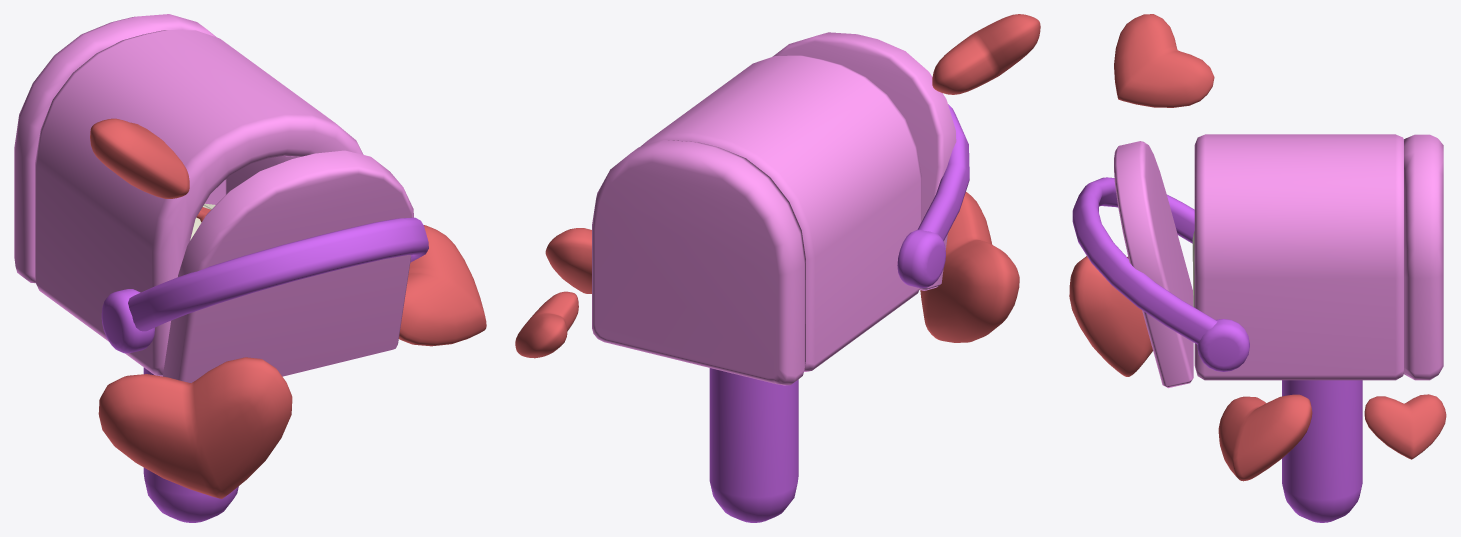
The picture shows the model from 3 angles, left to right: view 1: azimuth 30°, elevation 25°; view 2: azimuth 150°, elevation 25°; view 3: azimuth 270°, elevation 25°; orthographic projection. The views are drawn at different scales.
Visible parts, largest first — view 1: polySurface768, polySurface762, polySurface765, polySurface764, polySurface769, polySurface766, polySurface767, pCylinder9, polySurface980; view 2: polySurface769, polySurface768, pCylinder9, polySurface762, polySurface765, polySurface767, polySurface764, polySurface773, polySurface980, polySurface766; view 3: polySurface768, polySurface762, polySurface769, pCylinder9, polySurface764, polySurface767, polySurface766, polySurface765, polySurface773, polySurface979.
Boxes of the visible parts, box(x1,y1,x2,y2) form: polySurface768: box(35, 30, 363, 376); polySurface762: box(162, 150, 413, 382); polySurface765: box(98, 357, 292, 498); polySurface764: box(128, 217, 428, 331); polySurface769: box(14, 14, 225, 283); polySurface766: box(399, 225, 486, 346); polySurface767: box(90, 118, 189, 198); pCylinder9: box(143, 367, 238, 522); polySurface980: box(101, 289, 154, 353); polySurface769: box(592, 140, 805, 385); polySurface768: box(640, 55, 921, 371); pCylinder9: box(709, 368, 798, 522); polySurface762: box(772, 32, 956, 290); polySurface765: box(920, 192, 1019, 342); polySurface767: box(932, 14, 1040, 94); polySurface764: box(918, 104, 969, 240); polySurface773: box(515, 291, 578, 358); polySurface980: box(897, 229, 945, 288); polySurface766: box(545, 228, 591, 293); polySurface768: box(1194, 134, 1403, 380); polySurface762: box(1114, 141, 1193, 388); polySurface769: box(1404, 134, 1443, 380); pCylinder9: box(1282, 380, 1362, 522); polySurface764: box(1072, 177, 1217, 344); polySurface767: box(1114, 14, 1214, 107); polySurface766: box(1218, 394, 1312, 481); polySurface765: box(1069, 256, 1152, 376); polySurface773: box(1364, 394, 1446, 459); polySurface979: box(1197, 319, 1249, 371).
Bounding box in the file's own units: 943 × 1033 × 825.
